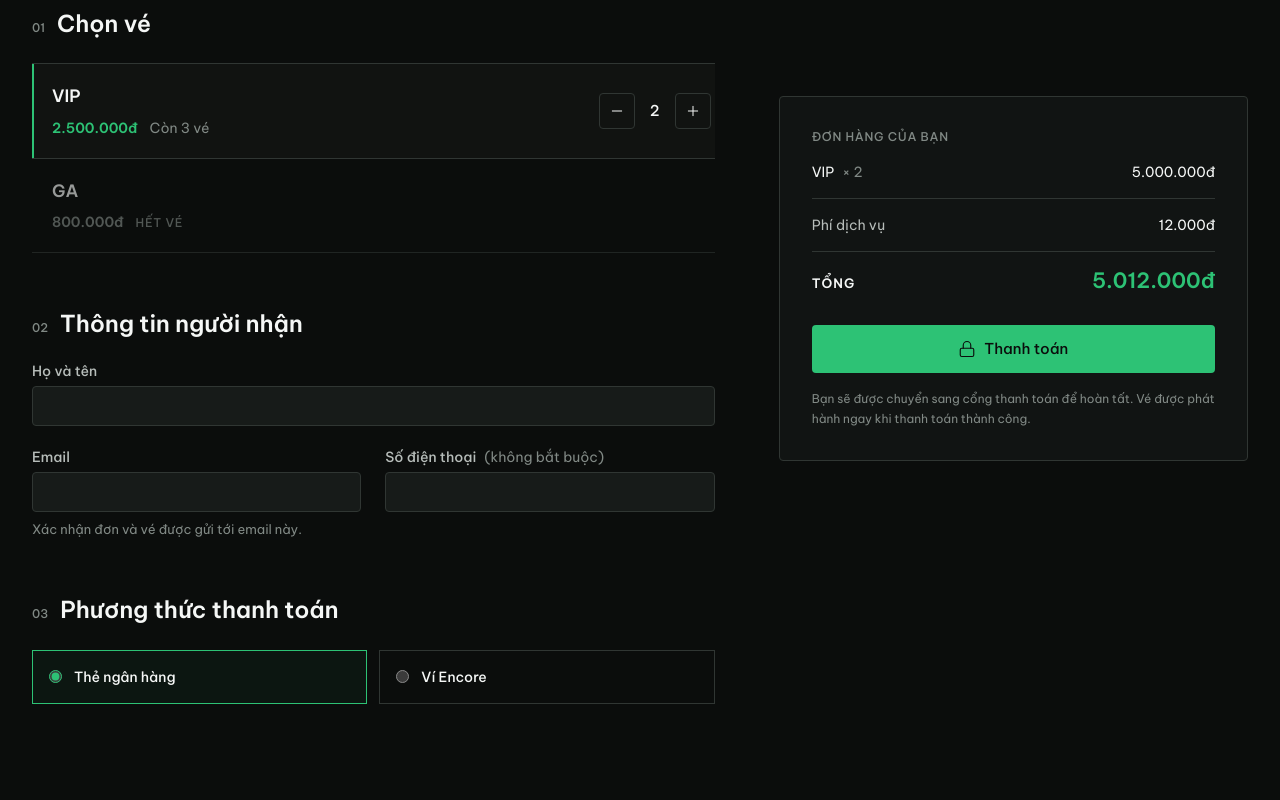
Test case: CheckoutPage › form thiếu/sai: báo lỗi, không gửi đơn
The width and height of the screenshot is (1280, 800).
(page scrolled)
In the field labelled "Email": (197, 492) [32,472,361,512], type "abc"
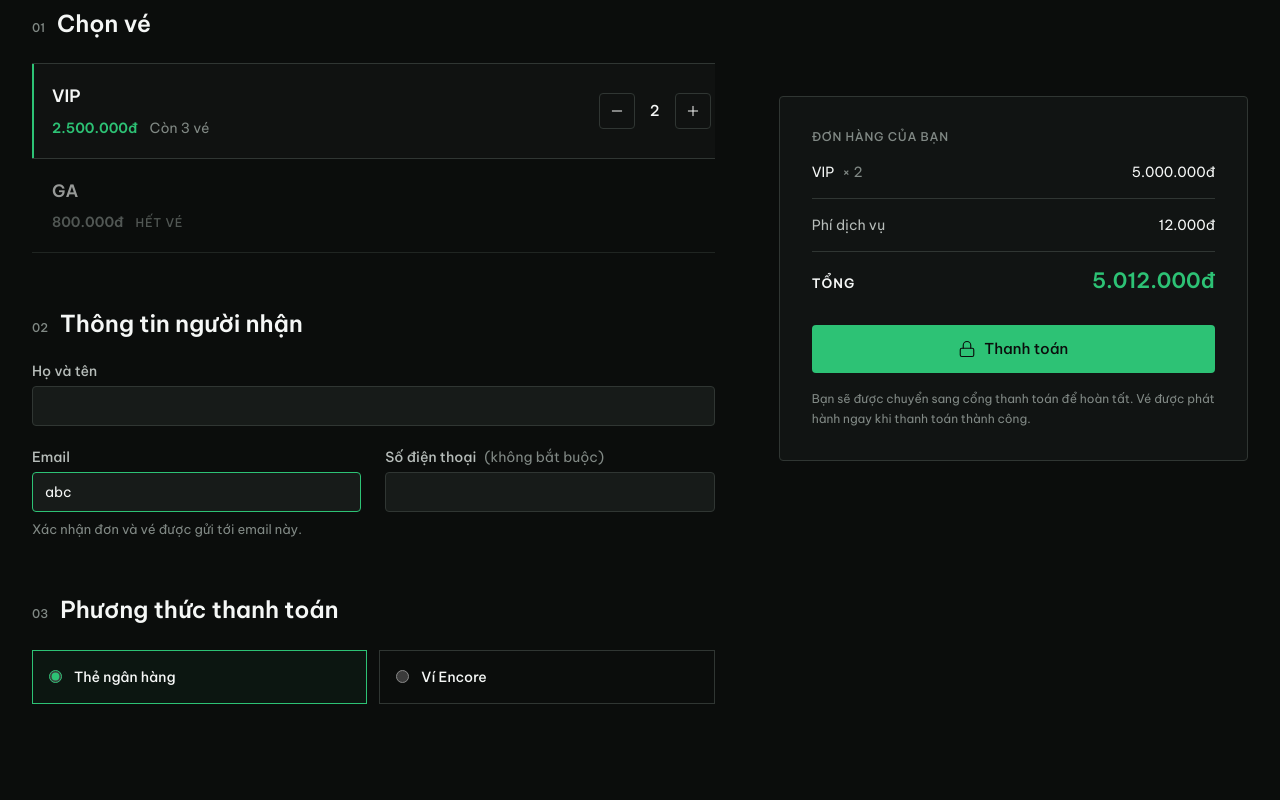
Click the button "Thanh toán": (1013, 349) [812,325,1215,373]
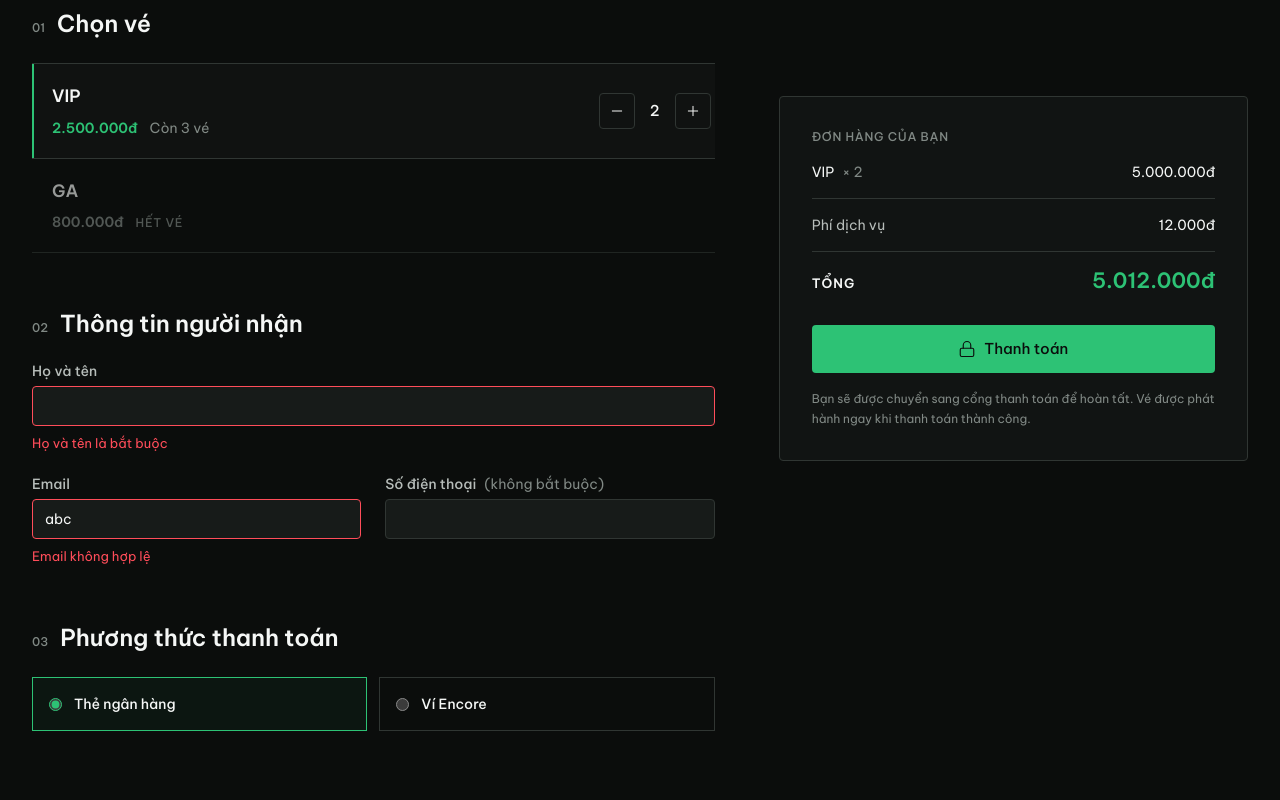
Check: the text "Họ và tên là bắt buộc" is shown, box [32,435,168,451]
Check: the text "Email không hợp lệ" is shown, box [32,548,151,564]
